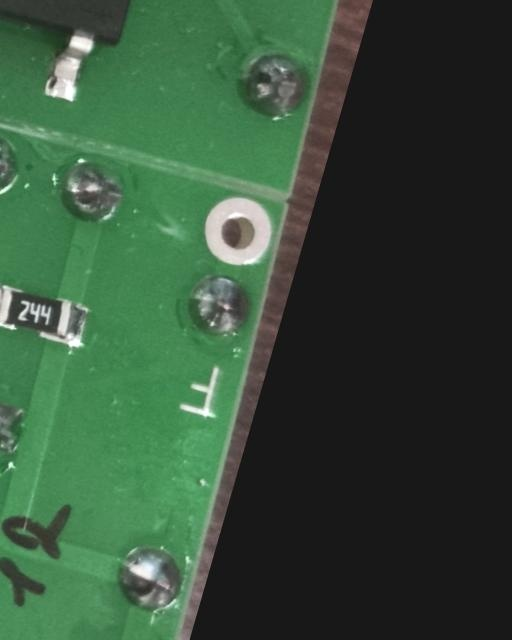chip-resistor: (0, 271, 95, 350)
